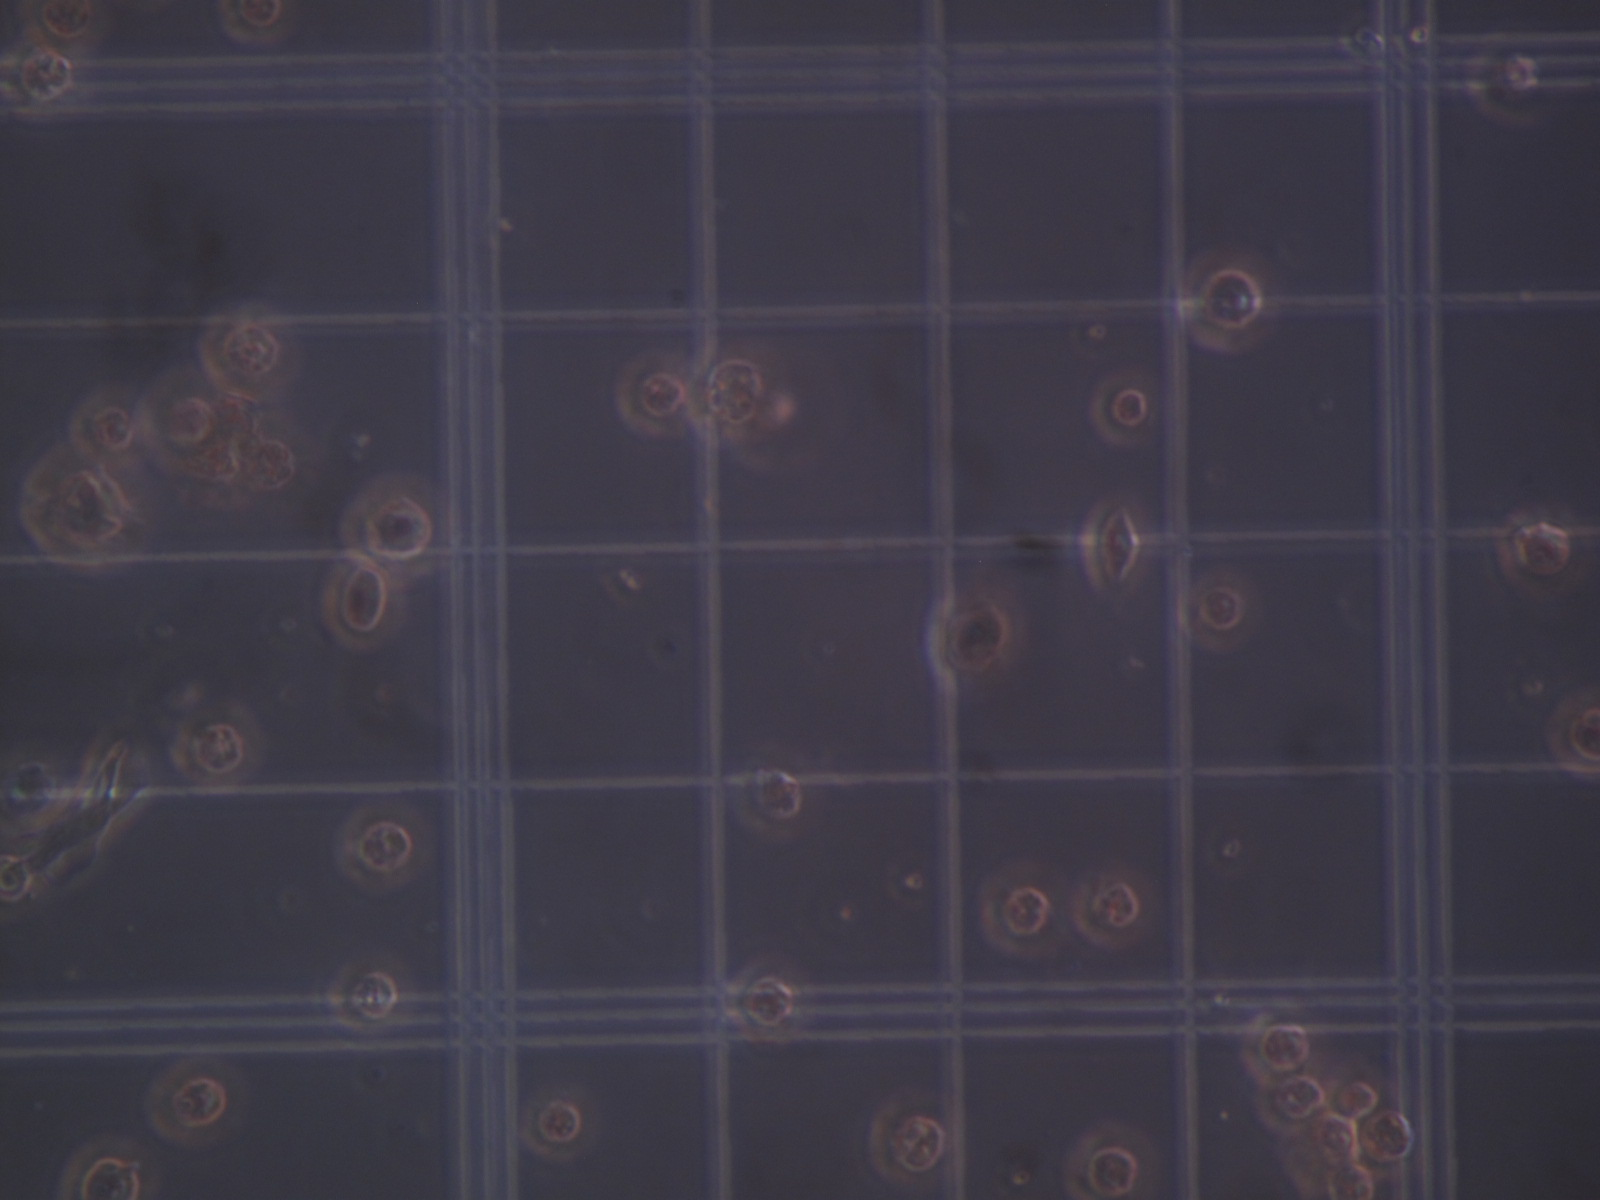hemo: (24, 445, 134, 571), (333, 474, 449, 580), (687, 338, 787, 446), (925, 586, 1031, 679), (147, 1050, 244, 1148), (976, 858, 1070, 961), (333, 799, 433, 892), (1178, 251, 1269, 354), (200, 310, 299, 398), (137, 371, 226, 469), (320, 550, 408, 647), (1076, 489, 1154, 597), (173, 698, 265, 788), (1, 37, 96, 124), (871, 1085, 955, 1180), (616, 350, 703, 440), (328, 945, 414, 1035), (724, 961, 813, 1047), (1490, 505, 1575, 595), (1066, 1124, 1162, 1200), (733, 745, 813, 834), (236, 411, 315, 499), (1468, 33, 1540, 126), (55, 1137, 161, 1200), (1240, 1008, 1320, 1089), (1180, 574, 1262, 650), (1075, 872, 1157, 947), (519, 1089, 596, 1158), (72, 388, 140, 464), (1094, 369, 1159, 447), (1250, 1071, 1327, 1131), (1547, 684, 1600, 770), (14, 1, 107, 44), (215, 1, 299, 49), (1327, 1066, 1390, 1127), (1294, 1111, 1364, 1163), (9, 744, 62, 804), (1361, 1109, 1415, 1163), (1323, 1163, 1376, 1200), (1, 850, 33, 903)
